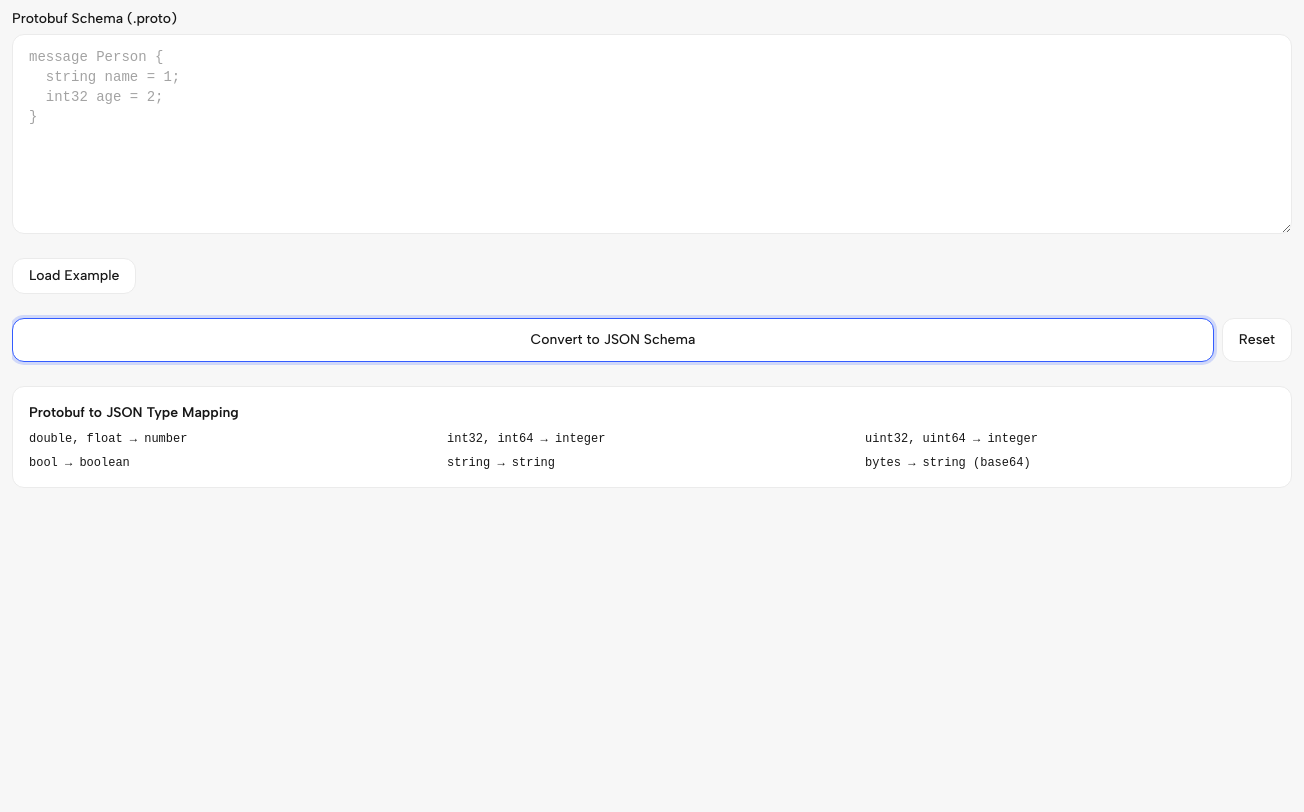
Test: ProtobufJsonTool › shows error when converting empty input
The width and height of the screenshot is (1304, 812).
Click the button "Convert to JSON Schema". click: click(613, 340)
box: [12,318,1214,362]
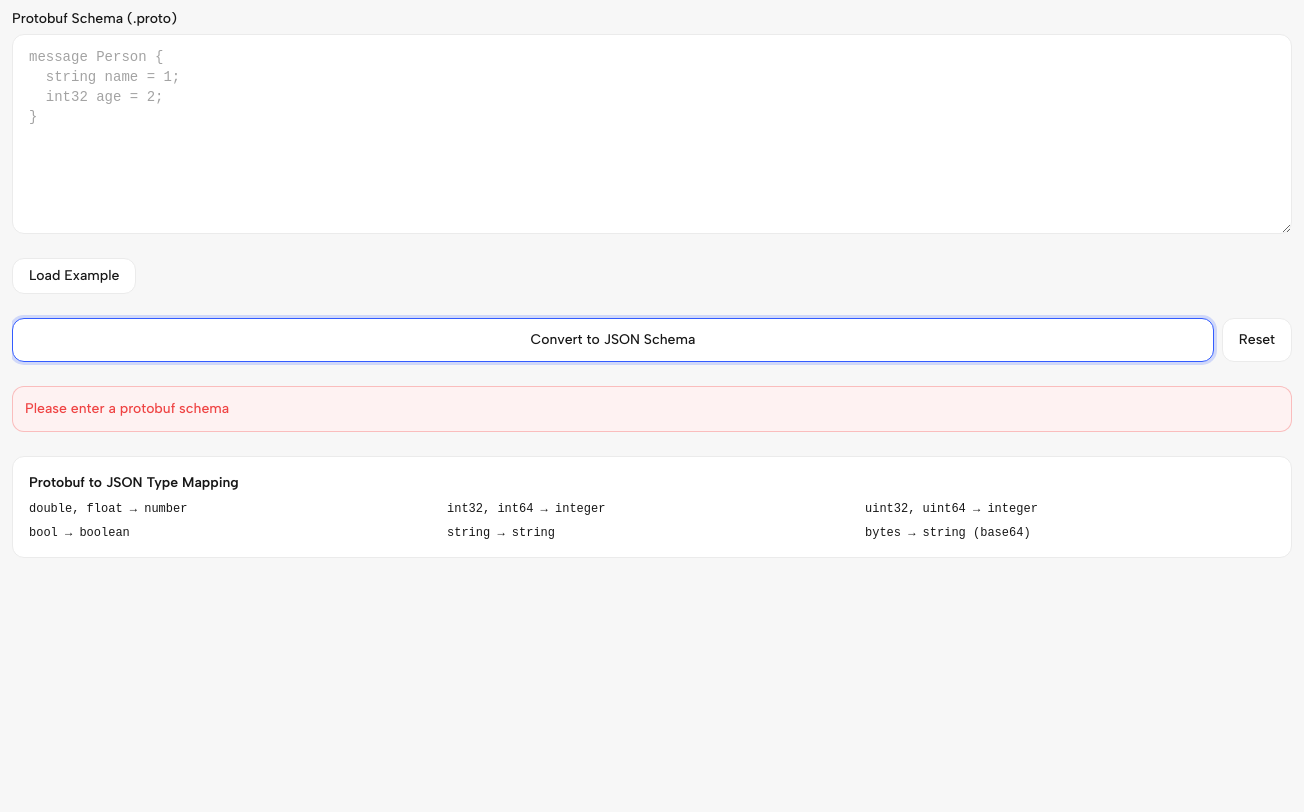
Check: the text "Please enter a protobuf schema" is shown, box [25,400,229,417]
